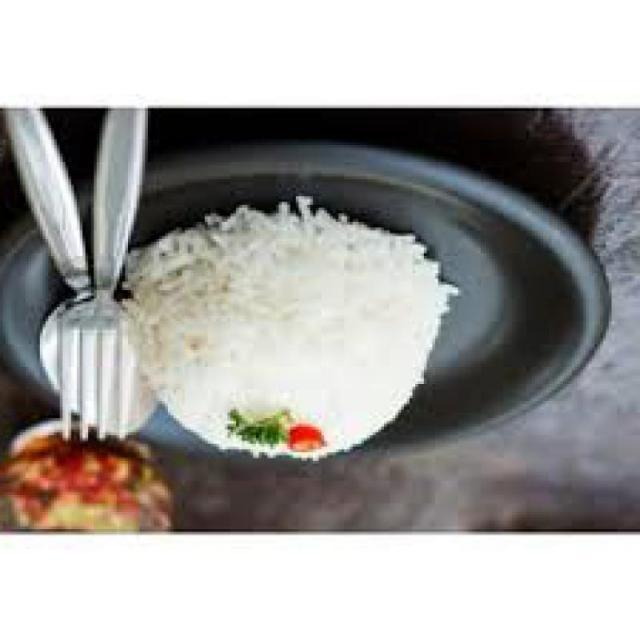nasi_putih: (125, 207, 445, 460)
